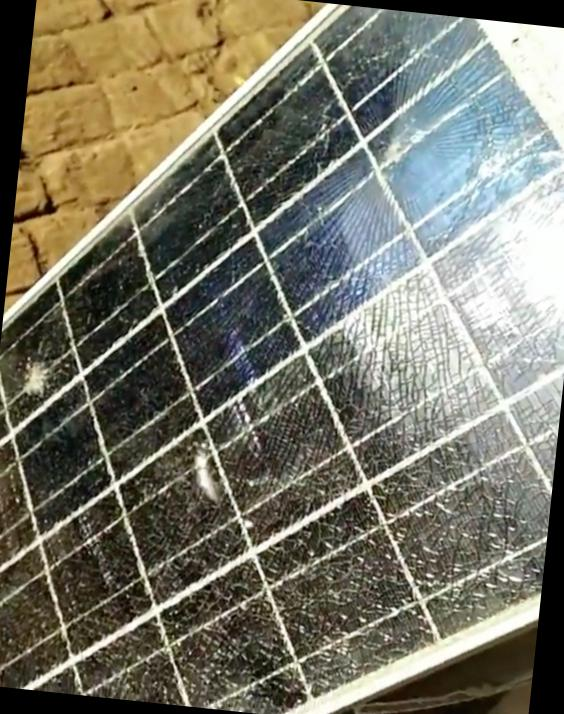Crack: (267, 36, 563, 467), (151, 444, 250, 519), (8, 348, 70, 410)
